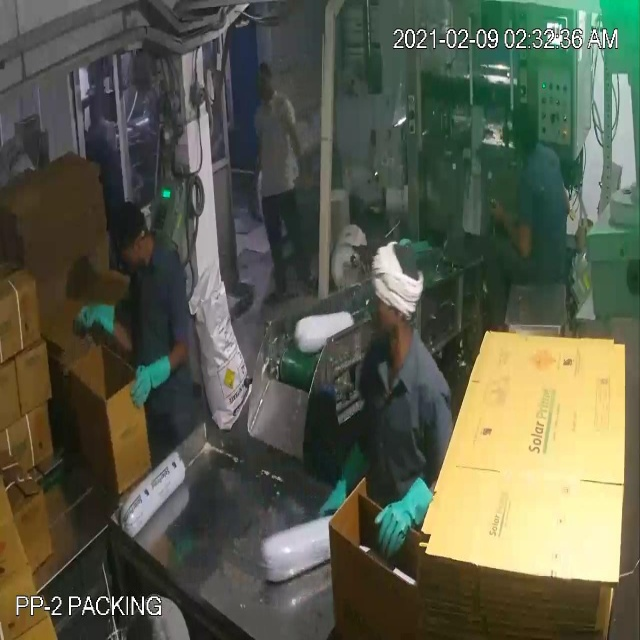Guantes: (366, 472, 442, 565), (315, 444, 377, 528), (113, 348, 189, 415), (75, 284, 127, 349)
Sin_guantes: (280, 95, 310, 188)
